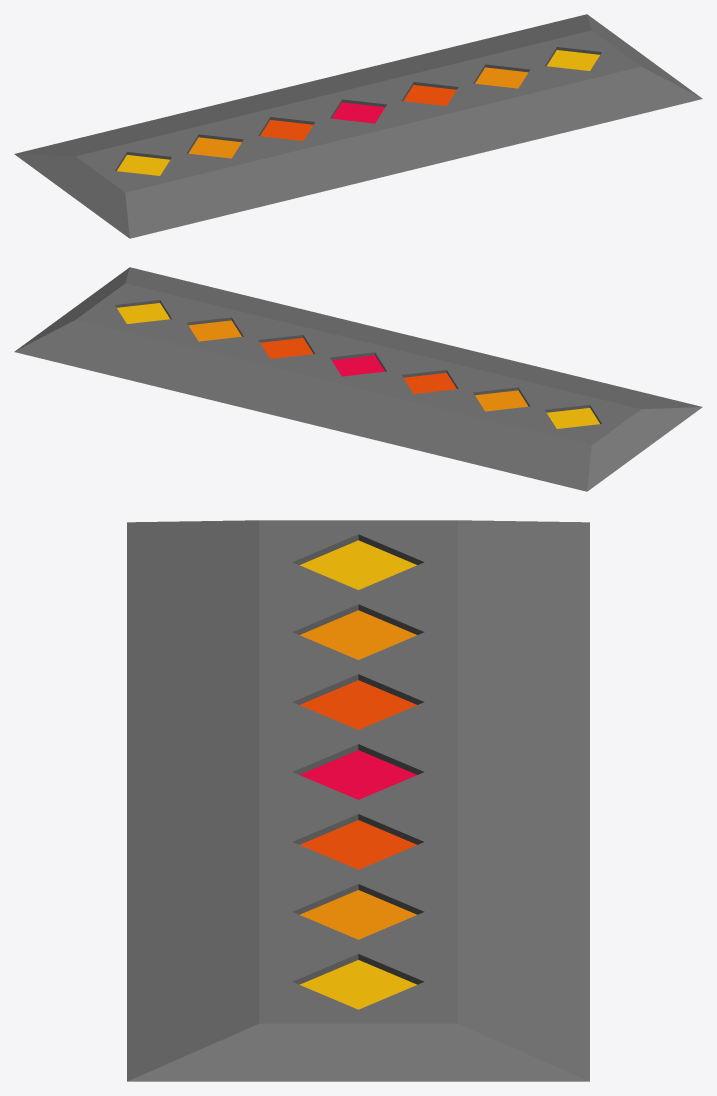
File: Rollover_1.fbx
The picture shows the model from 3 angles, top to bottom: view 1: azimuth 30°, elevation 25°; view 2: azimuth 150°, elevation 25°; view 3: azimuth 270°, elevation 25°; orthographic projection. The views are drawn at different scales.
Visible parts, largest first — view 1: Rollover_1; view 2: Rollover_1; view 3: Rollover_1.
Part boxes in pixels (x1=…): Rollover_1: x1=14, y1=14, x2=702, y2=238; Rollover_1: x1=14, y1=267, x2=702, y2=491; Rollover_1: x1=127, y1=520, x2=589, y2=1081.
Bounding box in the file's own units: 40 × 1 × 14.
